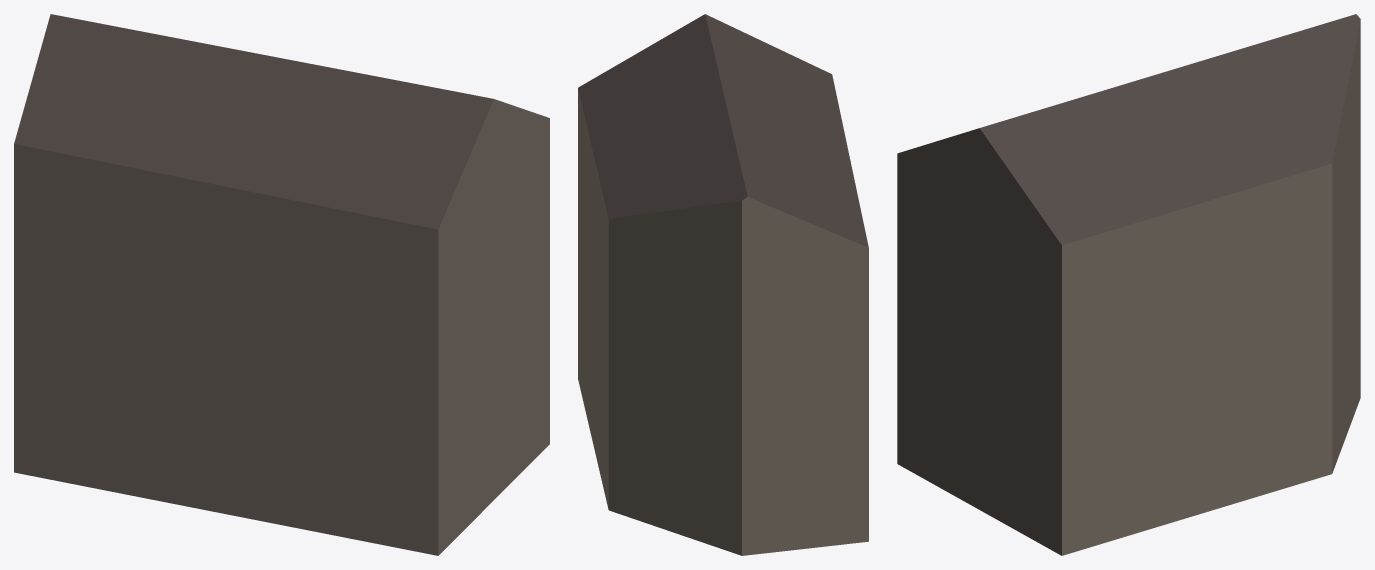
The picture shows the model from 3 angles, left to right: view 1: azimuth 30°, elevation 25°; view 2: azimuth 150°, elevation 25°; view 3: azimuth 270°, elevation 25°; orthographic projection. The views are drawn at different scales.
Parts seen in each view (by area): view 1: HP-w1515076950; view 2: HP-w1515076950; view 3: HP-w1515076950.
Part boxes in pixels (box(x1,y1,x2,y2)): HP-w1515076950: box(14, 14, 549, 555); HP-w1515076950: box(578, 14, 868, 555); HP-w1515076950: box(897, 14, 1360, 555).
Size of the model in its own units: 8.29 by 7.38 by 8.12.
